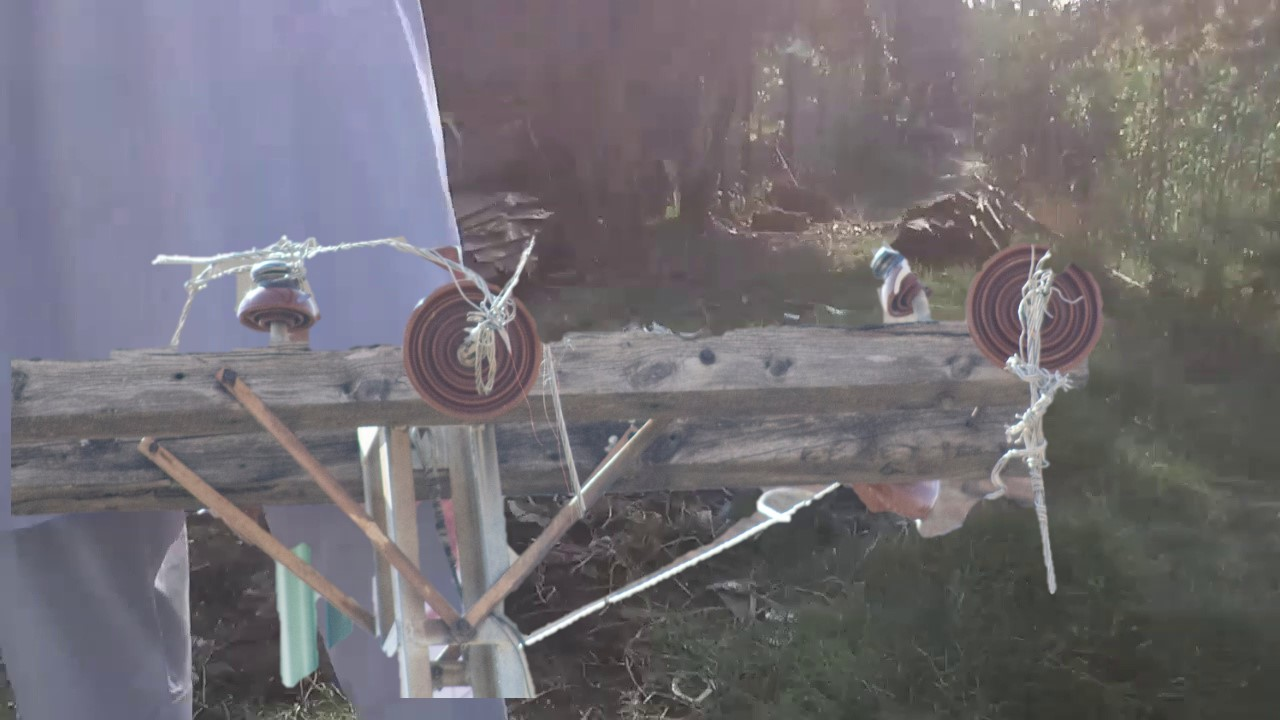defect_pin: (867, 240, 934, 323)
insulator_disc: (399, 279, 548, 422), (961, 239, 1108, 377)
insulator_pin: (229, 252, 322, 337)
